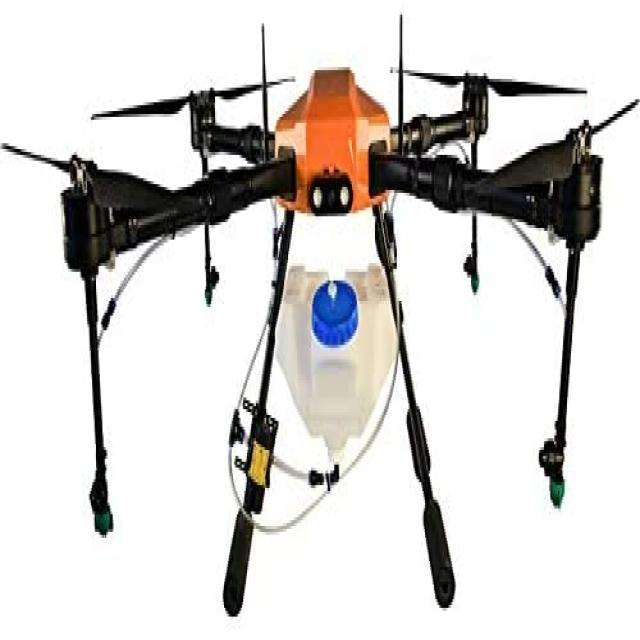drone: (5, 0, 640, 619)
